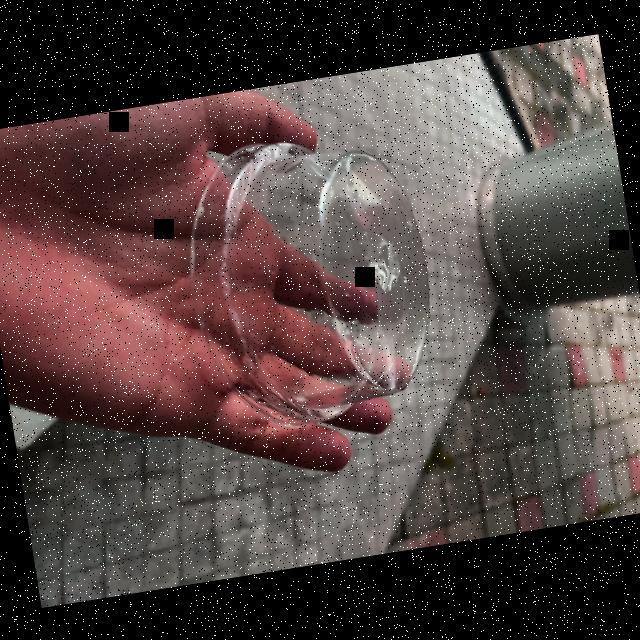plastic_cup_lid: (165, 118, 455, 446)
